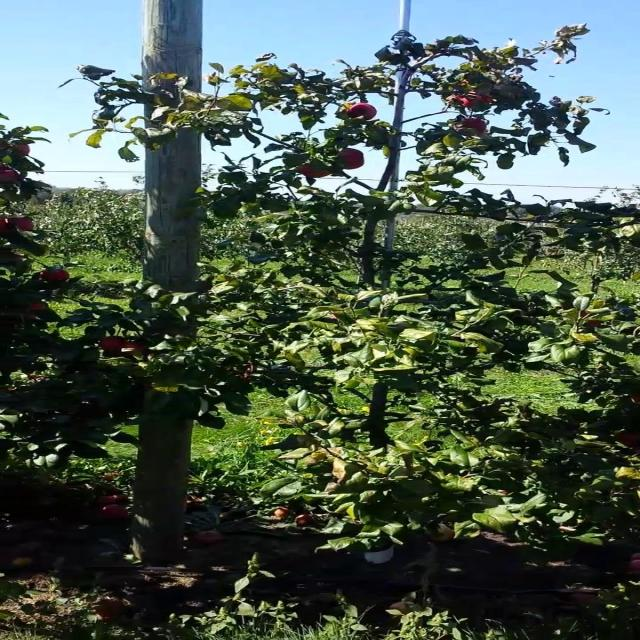apple: (568, 308, 610, 329), (333, 148, 370, 171), (454, 116, 491, 136), (298, 160, 334, 180), (20, 304, 55, 323), (340, 104, 379, 121), (120, 340, 153, 359), (99, 336, 128, 355), (42, 268, 73, 285), (13, 216, 39, 234), (6, 144, 36, 158), (1, 168, 23, 185), (1, 220, 20, 239), (6, 248, 27, 265), (476, 92, 498, 107), (620, 432, 639, 449), (454, 76, 478, 89), (447, 96, 471, 108), (625, 388, 639, 407), (6, 220, 18, 235)
